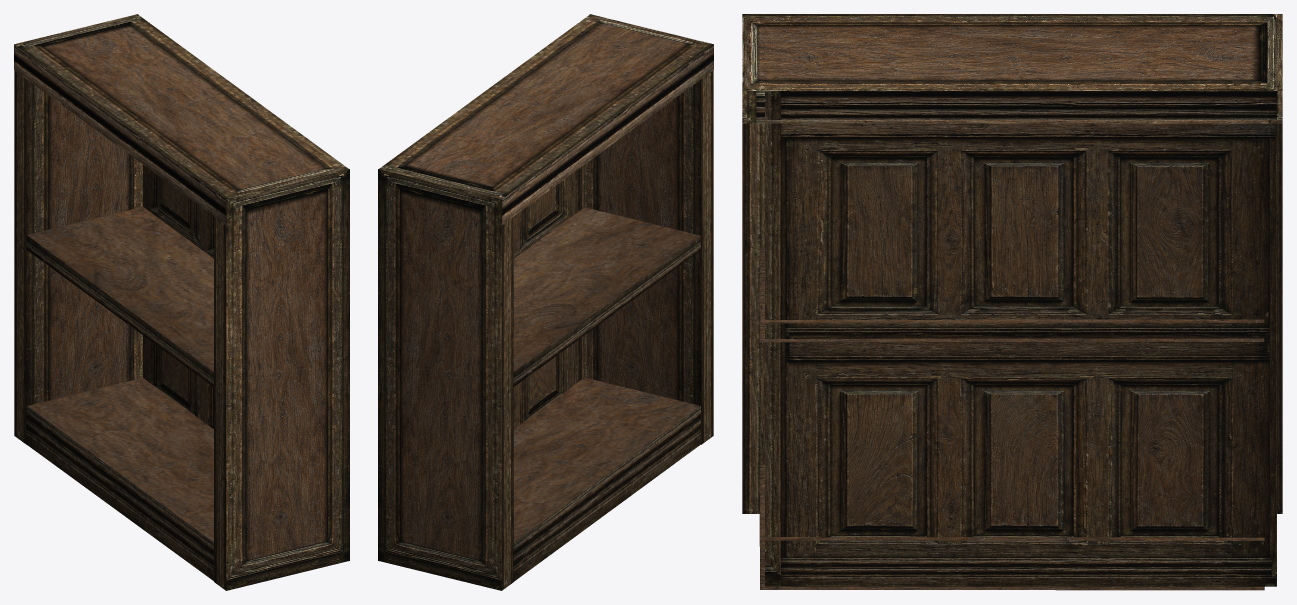
File: mm9_deco_weaponscabinet02ns.glb
The picture shows the model from 3 angles, left to right: view 1: azimuth 30°, elevation 25°; view 2: azimuth 150°, elevation 25°; view 3: azimuth 270°, elevation 25°; orthographic projection. The views are drawn at different scales.
Visible parts, largest first — view 1: Weaponscabinet02ns; view 2: Weaponscabinet02ns; view 3: Weaponscabinet02ns.
Part boxes in pixels (box(x1,y1,x2,y2)): Weaponscabinet02ns: box(14, 14, 349, 590); Weaponscabinet02ns: box(378, 14, 713, 590); Weaponscabinet02ns: box(742, 14, 1282, 590).
Size of the model in its own units: 0.9834 by 2.97 by 2.91.
Materials: 1 (1 with a texture image).
